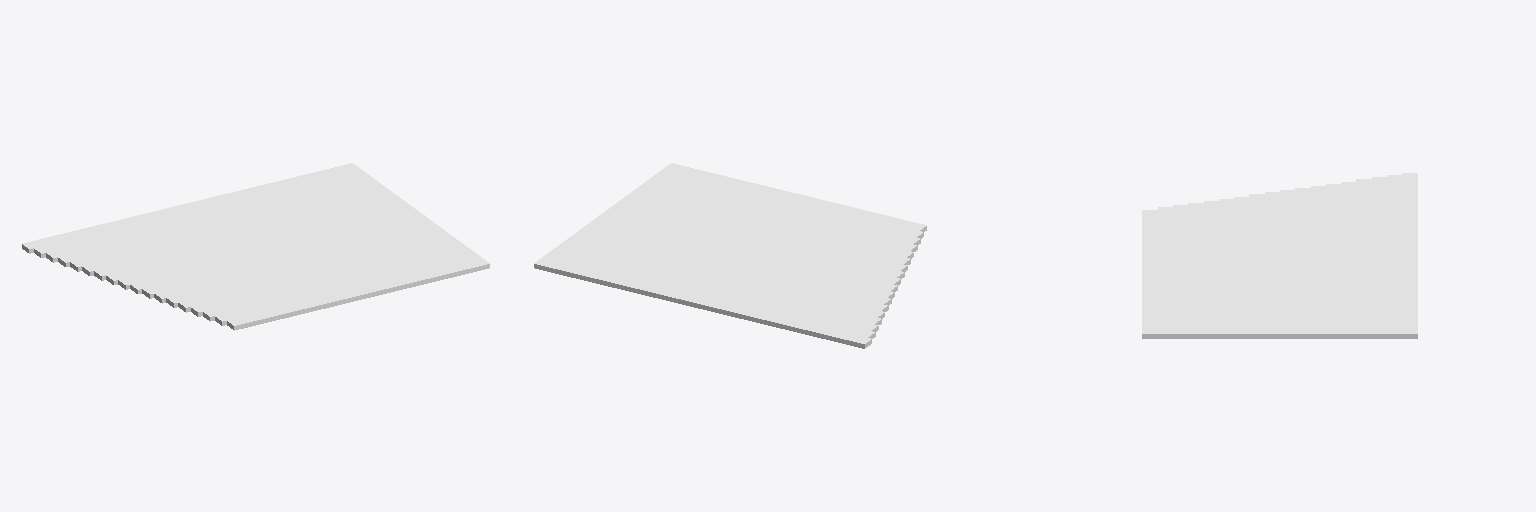
File: Split_0-0.obj
3 renders of one model, left to right at view 1: azimuth 30°, elevation 25°; view 2: azimuth 150°, elevation 25°; view 3: azimuth 270°, elevation 25°, orthographic.
Parts seen in each view (by area): view 1: Split_0-0; view 2: Split_0-0; view 3: Split_0-0.
Part boxes in pixels (bbox=[...]): Split_0-0: bbox=[22, 163, 489, 330]; Split_0-0: bbox=[534, 163, 926, 348]; Split_0-0: bbox=[1142, 173, 1417, 338].
Bounding box in the file's own units: 75 × 1 × 54.